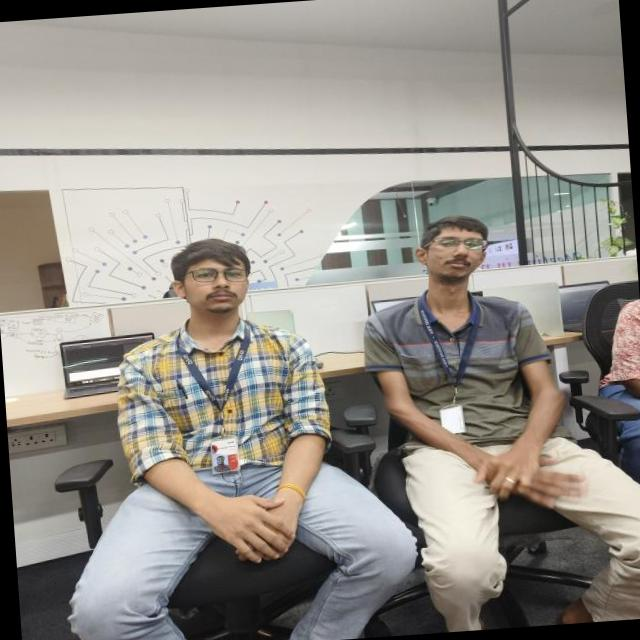id_card: (174, 324, 263, 479), (416, 288, 486, 436)
